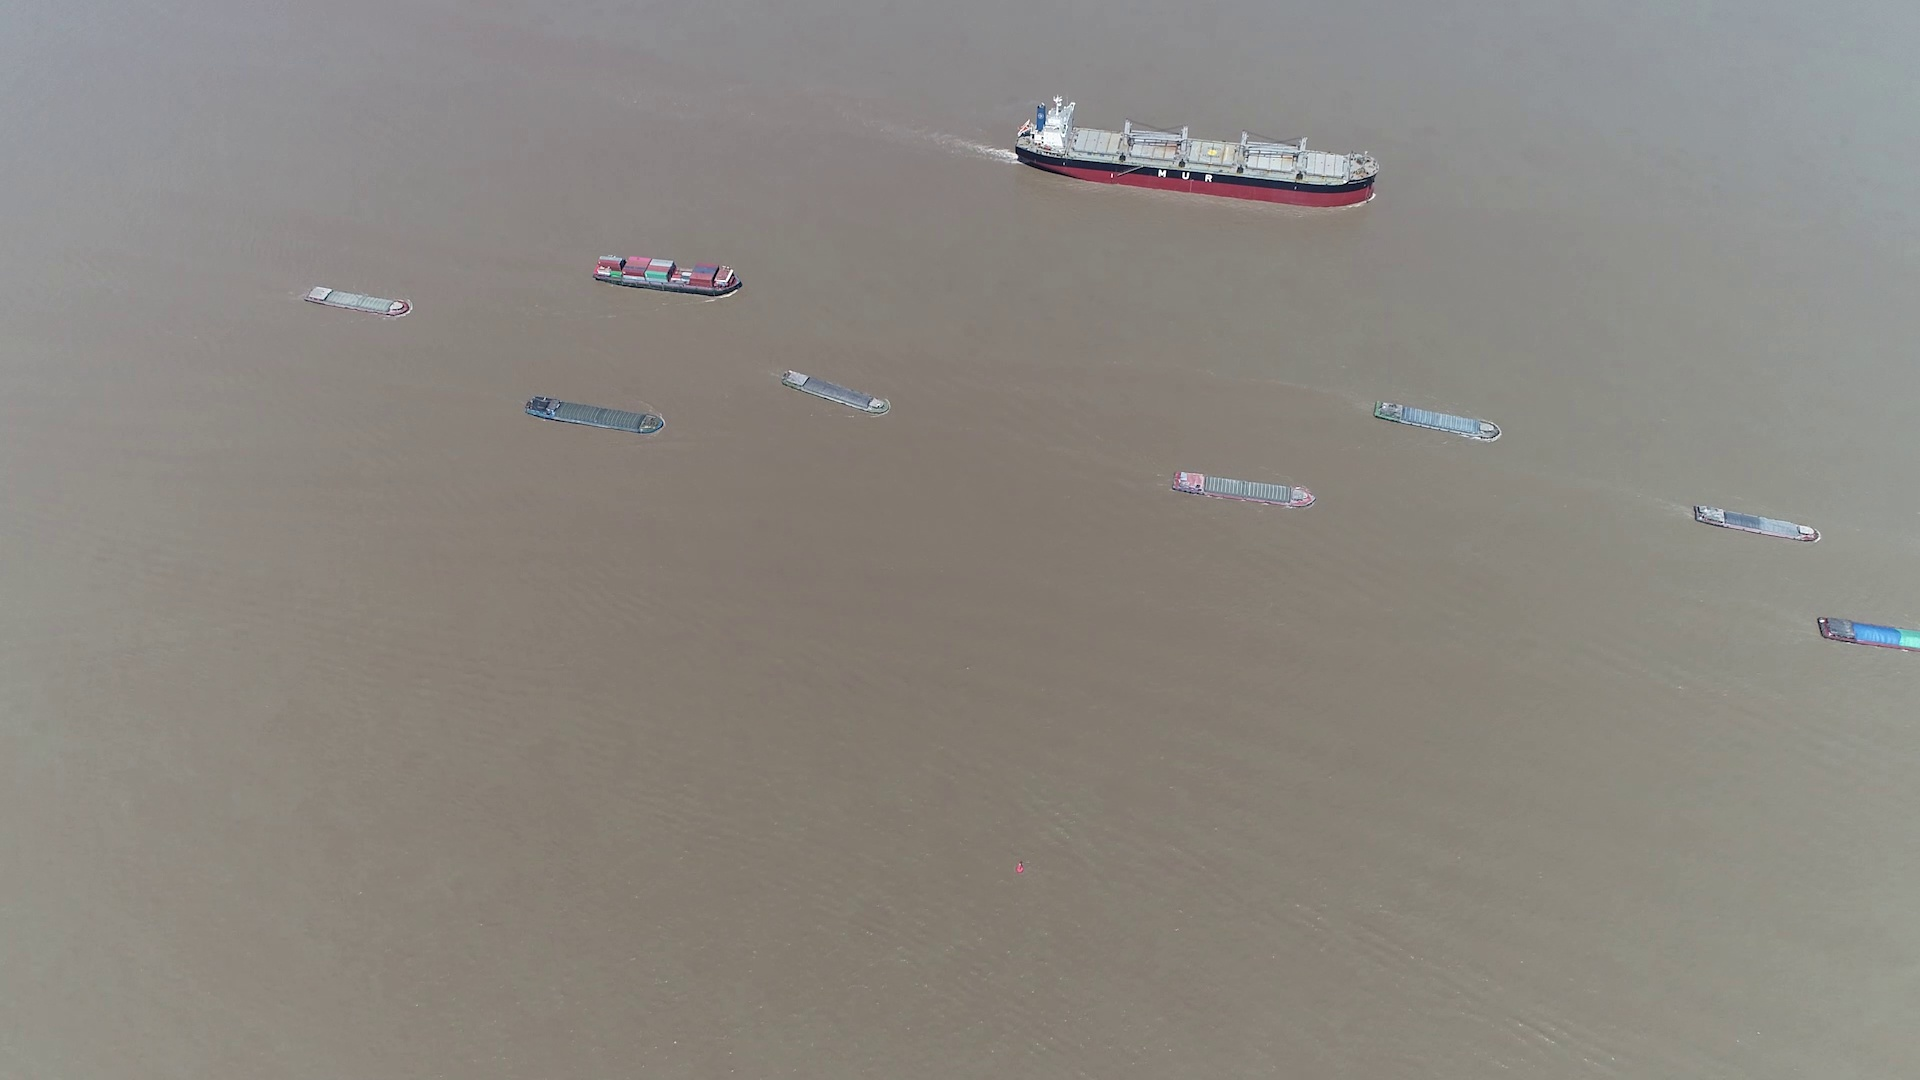ship: (1009, 98, 1375, 204), (593, 255, 742, 295), (525, 396, 667, 436), (1171, 469, 1316, 508), (1375, 400, 1505, 442), (1693, 502, 1822, 543), (782, 371, 893, 417), (1816, 615, 1920, 651), (303, 284, 411, 318)
